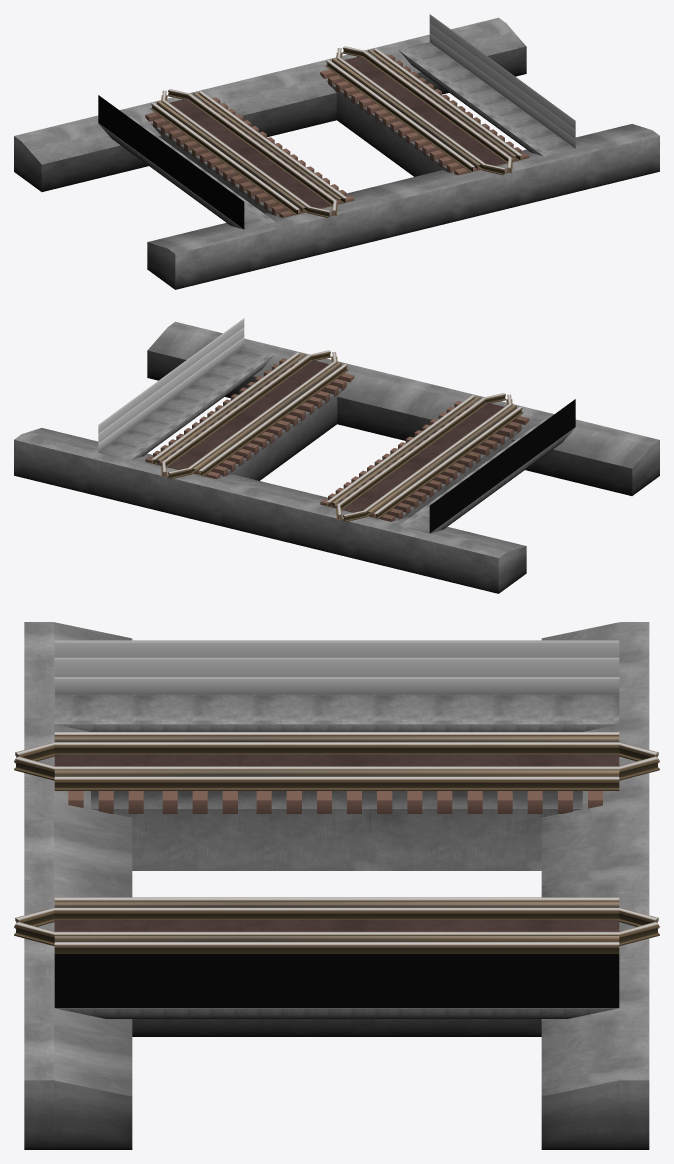
Rendered from MEI_2RAIL_BRIDGE18_75_NOBANISTER.glb.
The picture shows the model from 3 angles, top to bottom: view 1: azimuth 30°, elevation 25°; view 2: azimuth 150°, elevation 25°; view 3: azimuth 270°, elevation 25°; orthographic projection. The views are drawn at different scales.
Parts seen in each view (by area): view 1: obj16, b, f, obj3, obj12, obj2, obj6, obj5, bone0; view 2: obj16, f, b, bone0, obj2, obj12, obj6, obj5, obj3; view 3: obj16, f, b, obj2, obj6, obj12, obj5, obj3, bone0.
Boxes of the visible parts, x1,y1,x2,y2 form: obj16: (98,14,575,229); b: (147,124,659,289); f: (14,17,526,191); obj3: (263,141,529,217); obj12: (215,106,480,186); obj2: (239,123,504,204); obj6: (168,71,433,152); obj5: (192,89,457,169); bone0: (145,54,410,135); obj16: (98,318,575,533); f: (14,428,526,593); b: (147,321,659,495); bone0: (145,445,410,521); obj2: (239,376,504,456); obj12: (215,394,480,474); obj6: (168,428,433,508); obj5: (192,411,457,491); obj3: (263,358,529,439); obj16: (54,640,619,1036); f: (541,622,659,1149); b: (14,622,132,1149); obj2: (162,791,237,813); obj6: (437,791,512,813); obj12: (256,791,331,813); obj5: (347,791,422,813); obj3: (68,791,143,813); bone0: (527,791,602,813).
Size of the model in its own units: 36 by 4.54 by 21.45.
Materials: 16 (13 with a texture image).
